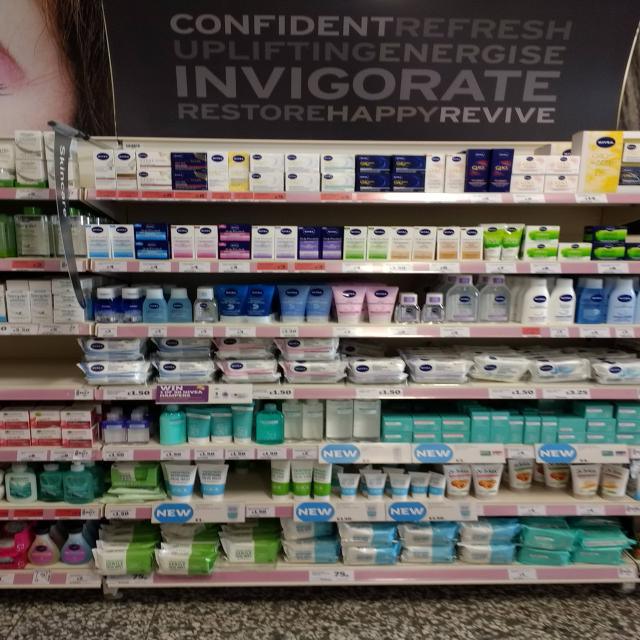empty: (7, 341, 79, 386), (231, 462, 274, 500)
